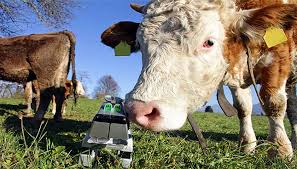cow: (125, 4, 233, 130), (2, 35, 80, 116)
